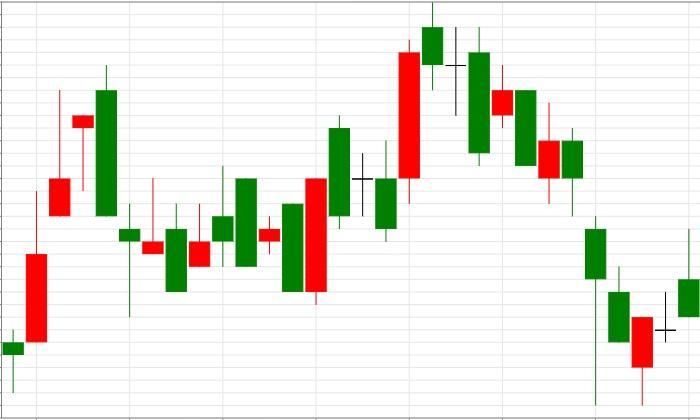bearish_engulfing_fall: (2, 65, 118, 395)
bullish_engulfing_rise: (212, 166, 327, 306)
